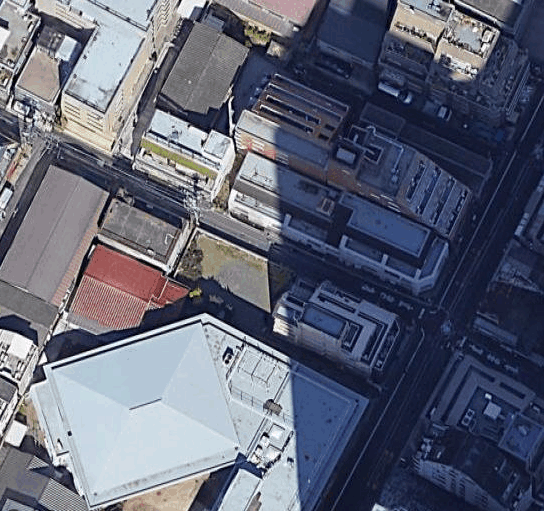facility: (238, 144, 430, 258), (457, 390, 542, 459), (399, 1, 497, 49)
rooftop: (234, 78, 422, 201), (122, 100, 237, 202), (270, 285, 371, 357)
